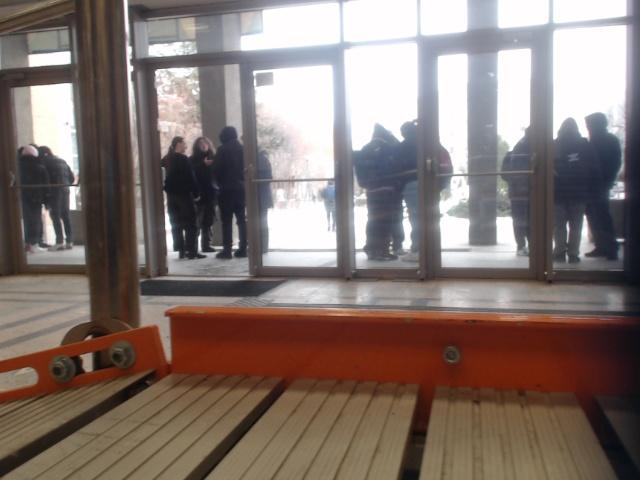rampDown: (0, 306, 639, 479)
ramps-railing: (73, 0, 138, 326)
